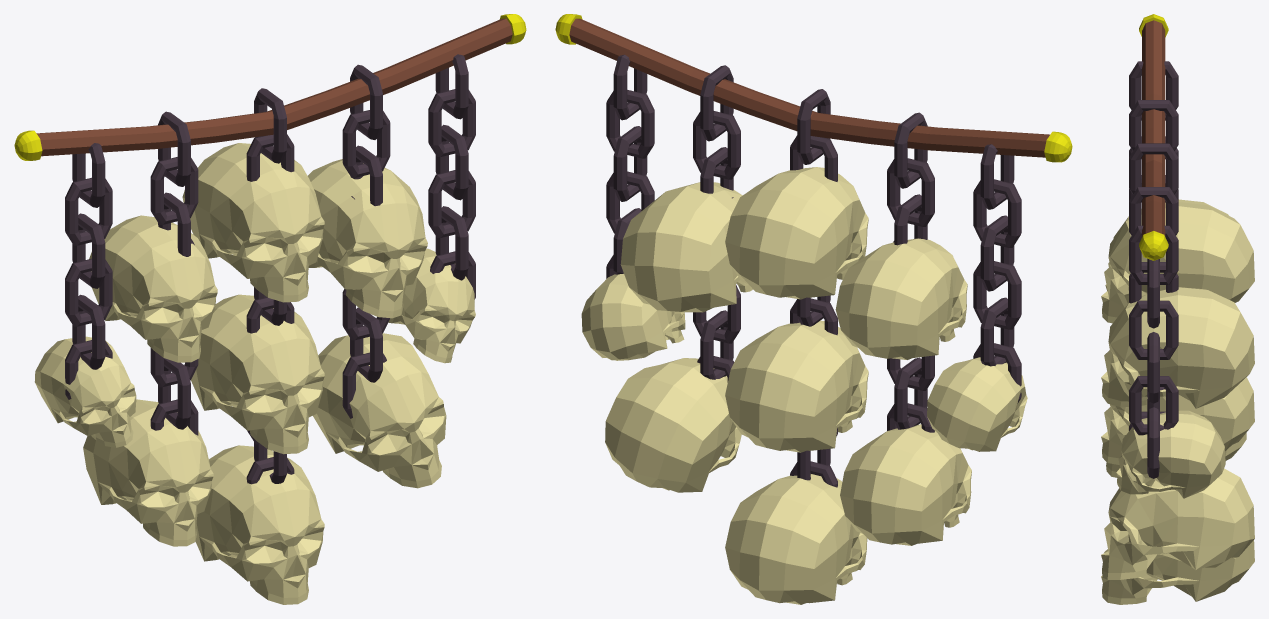
File: CalaverasColgandov01.fbx
3 renders of one model, left to right at view 1: azimuth 30°, elevation 25°; view 2: azimuth 150°, elevation 25°; view 3: azimuth 270°, elevation 25°, orthographic. The views are drawn at different scales.
Parts seen in each view (by area): view 1: Torus.012, Cylinder.002, Cylinder.001, Cylinder.005, Cylinder.003, Cylinder.004, Cylinder, Cylinder.009, Cylinder.008, Cylinder.007, Cylinder.006; view 2: Torus.012, Cylinder.002, Cylinder.001, Cylinder.005, Cylinder.003, Cylinder.009, Cylinder.004, Cylinder.008, Cylinder, Cylinder.007, Cylinder.006; view 3: Torus.012, Cylinder.003, Cylinder.004, Cylinder.002, Cylinder.006, Cylinder, Cylinder.005, Cylinder.001, Cylinder.008.
Boxes of the visible parts, x1=… form: Torus.012: x1=65, y1=54, x2=475, y2=484; Cylinder.002: x1=182, y1=143, x2=324, y2=302; Cylinder.001: x1=191, y1=294, x2=324, y2=454; Cylinder.005: x1=195, y1=445, x2=324, y2=604; Cylinder.003: x1=313, y1=333, x2=446, y2=488; Cylinder.004: x1=308, y1=159, x2=427, y2=318; Cylinder: x1=14, y1=14, x2=526, y2=160; Cylinder.009: x1=89, y1=215, x2=217, y2=362; Cylinder.008: x1=83, y1=399, x2=213, y2=546; Cylinder.007: x1=34, y1=336, x2=136, y2=447; Cylinder.006: x1=388, y1=248, x2=475, y2=363; Torus.012: x1=606, y1=54, x2=1021, y2=487; Cylinder.002: x1=725, y1=167, x2=868, y2=299; Cylinder.001: x1=725, y1=320, x2=868, y2=452; Cylinder.005: x1=725, y1=474, x2=867, y2=604; Cylinder.003: x1=605, y1=358, x2=741, y2=492; Cylinder.009: x1=835, y1=238, x2=967, y2=359; Cylinder.004: x1=620, y1=182, x2=752, y2=312; Cylinder.008: x1=840, y1=424, x2=971, y2=545; Cylinder: x1=555, y1=14, x2=1072, y2=162; Cylinder.007: x1=927, y1=357, x2=1027, y2=451; Cylinder.006: x1=581, y1=273, x2=685, y2=360; Torus.012: x1=1129, y1=61, x2=1178, y2=478; Cylinder.003: x1=1101, y1=468, x2=1254, y2=579; Cylinder.004: x1=1101, y1=287, x2=1254, y2=408; Cylinder.002: x1=1101, y1=202, x2=1254, y2=323; Cylinder.006: x1=1116, y1=410, x2=1225, y2=498; Cylinder: x1=1139, y1=14, x2=1168, y2=260; Cylinder.005: x1=1101, y1=540, x2=1254, y2=604; Cylinder.001: x1=1101, y1=377, x2=1254, y2=464; Cylinder.008: x1=1106, y1=433, x2=1246, y2=477.
Bounding box in the file's own units: 1.98 × 1.9 × 0.5606.
